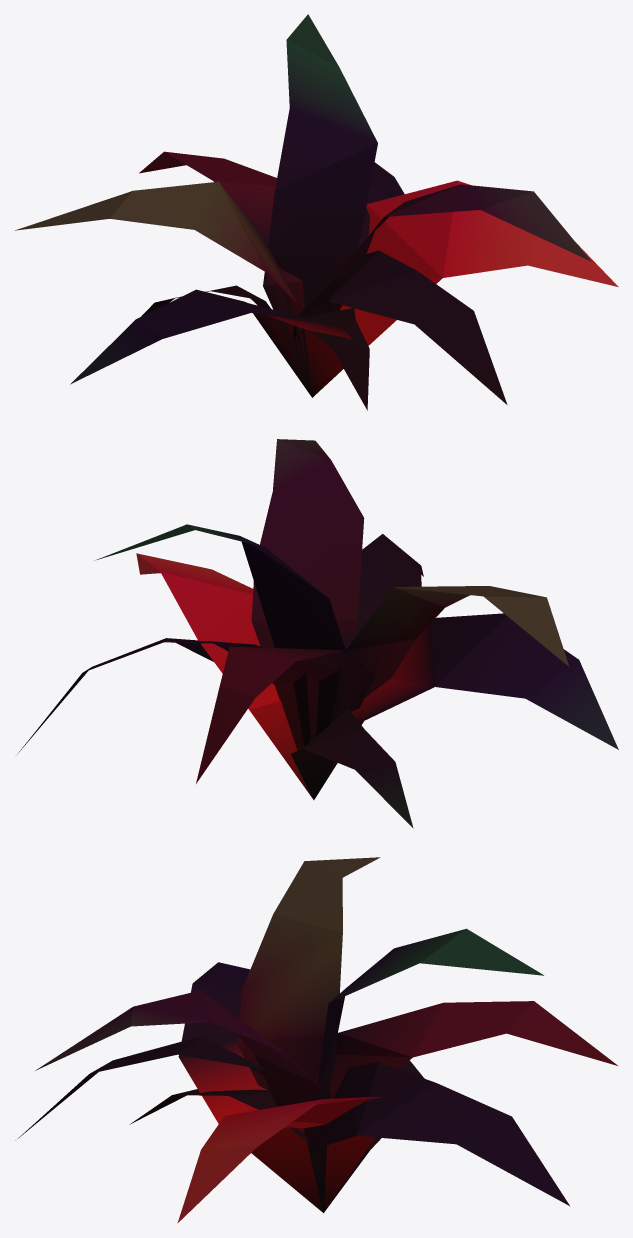
The model's file is Fern 2014.fbx.
3 views of the same model, one above another, from view 1: azimuth 30°, elevation 25°; view 2: azimuth 150°, elevation 25°; view 3: azimuth 270°, elevation 25° (orthographic). The views are drawn at different scales.
Visible parts, largest first — view 1: fern_atlas; view 2: fern_atlas; view 3: fern_atlas.
Part boxes in pixels (box(x1,y1,x2,y2)): fern_atlas: box(15, 14, 618, 410); fern_atlas: box(17, 439, 618, 828); fern_atlas: box(15, 857, 617, 1223).
Size of the model in its own units: 209 by 117 by 210.
